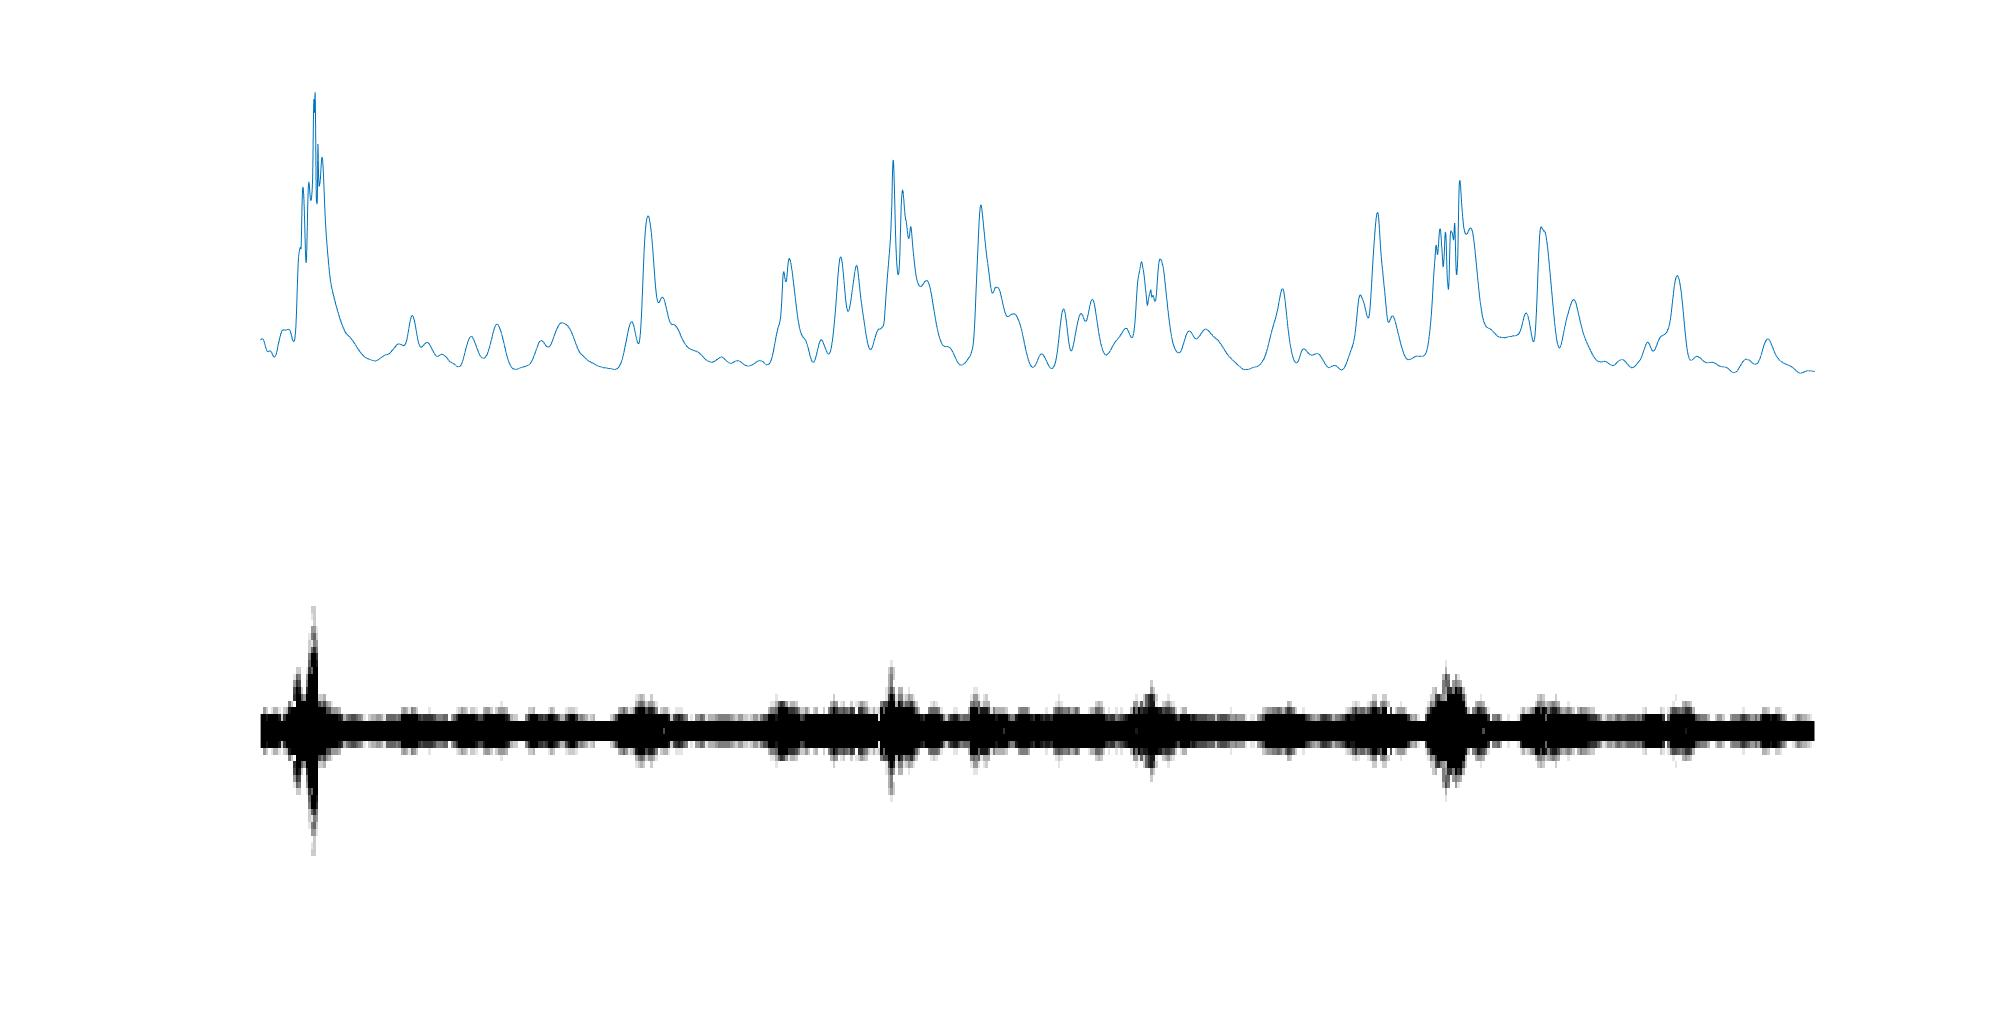spot: (297, 601, 330, 859)
